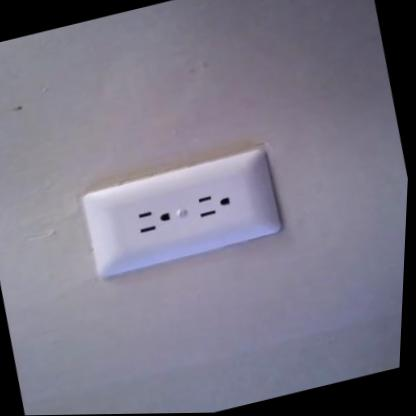OUTLET: (76, 148, 286, 278)
